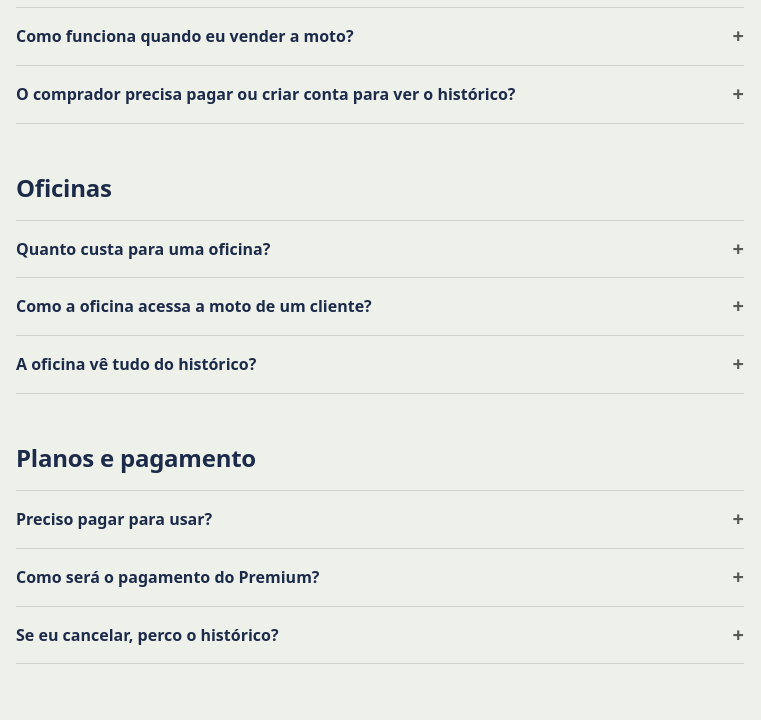
Test: FaqPage › usa o limite configurado do plano gratuito e indica recursos futuros como "em breve"
(page scrolled)
Click the text "Preciso pagar para usar?" at (114, 519), box 16,507 -> 212,532
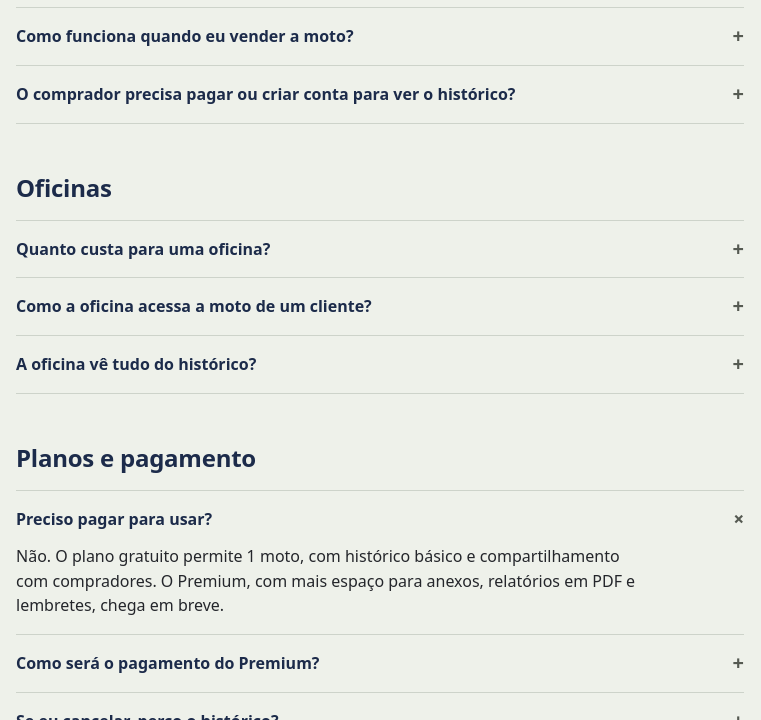
Expected: the text "permite 1 moto" is shown, 16,545 -> 635,616
Click the text "Como funciona quando eu vender a moto?" at (185, 36), box 16,24 -> 354,49
(page scrolled)
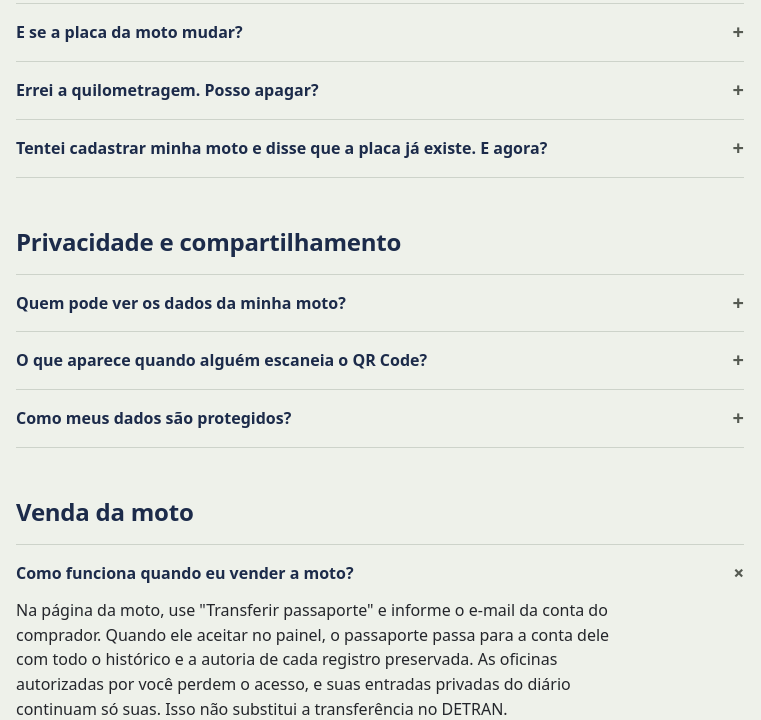
Expected: the text "use \"Transferir passaporte\"" is shown, 16,599 -> 609,719
Click the text "O que aparece quando alguém escaneia o QR Code?" at (222, 361), box 16,348 -> 427,373
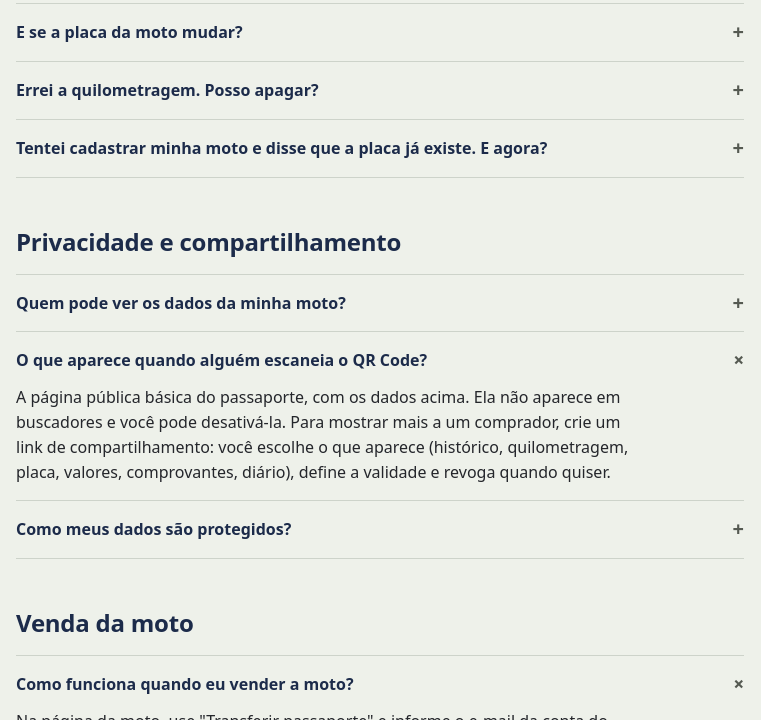
Expected: the text "crie um link de compartilhamento" is shown, 16,386 -> 628,483
